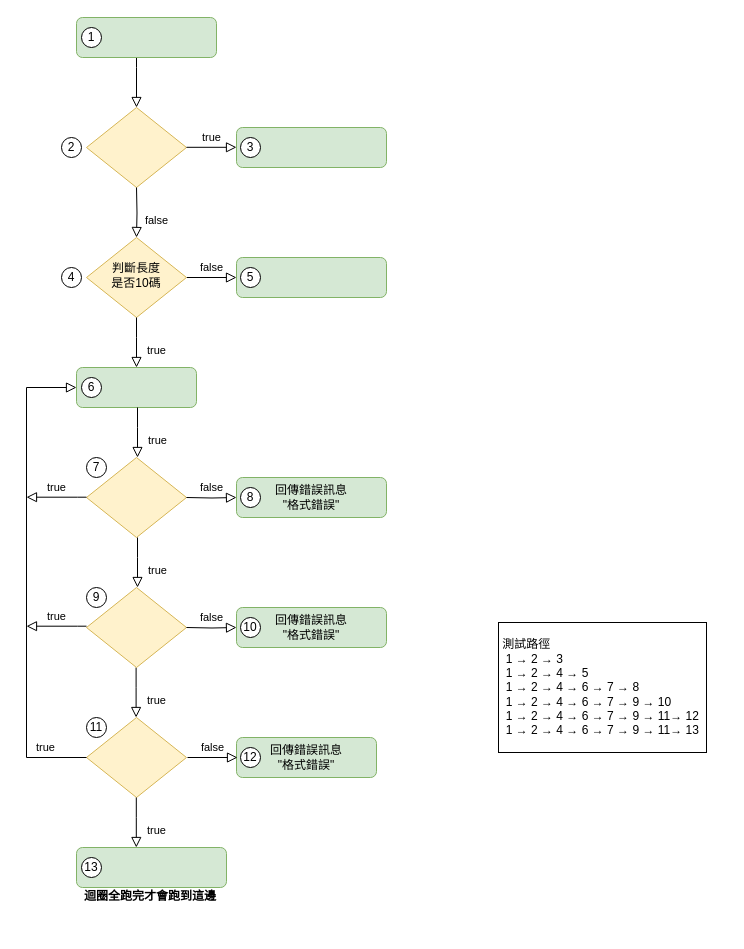
Image size: 744x949. Some labels were removed from this diagram. Each missing label, with the box of its shape:
判斷3~10碼是否 皆為數字0-9: (86, 716, 186, 798)
判斷是否空值: (86, 106, 186, 188)
判斷第1碼 是否為0: (86, 456, 186, 538)
判斷第2碼 是否為9: (86, 586, 186, 668)
回傳錯誤訊息 "輸入正確": (76, 846, 226, 888)
回傳錯誤訊息 "輸入的資料為空": (236, 126, 386, 168)
回傳錯誤訊息 "長度錯誤": (236, 256, 386, 298)
輸入手機號碼: (76, 16, 216, 58)
進入迴圈: (76, 366, 196, 408)
